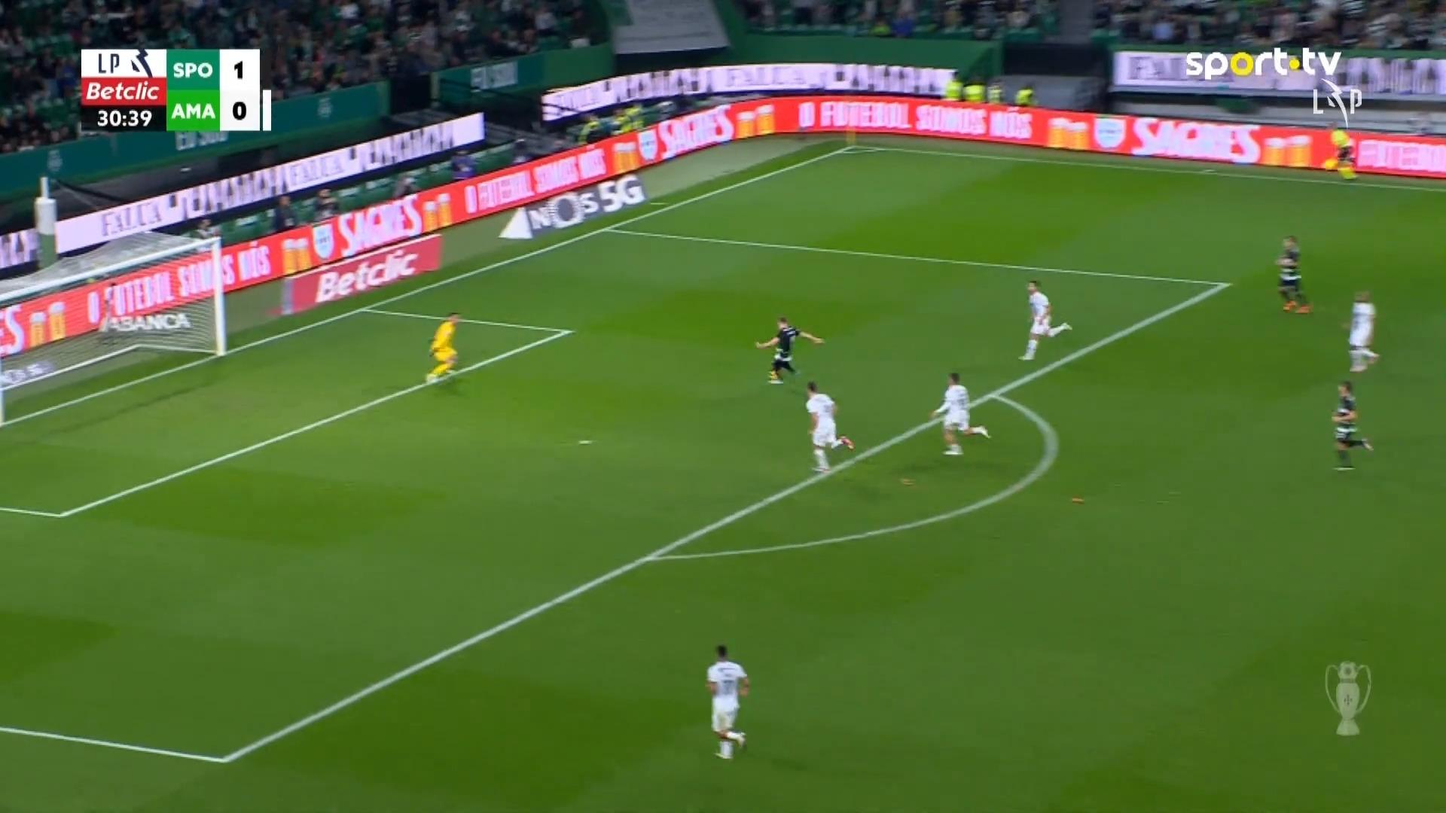goalkeeper: (424, 312, 461, 384)
player: (704, 643, 750, 760), (931, 370, 990, 455), (754, 315, 824, 385), (804, 379, 854, 473), (1017, 279, 1072, 361), (1330, 379, 1373, 470), (1344, 289, 1380, 372), (1274, 234, 1309, 312)
referee: (1324, 120, 1358, 180)
